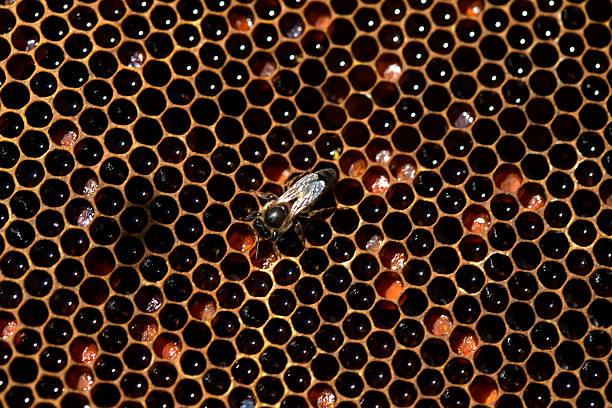Queen-Bee: (245, 169, 336, 249)
